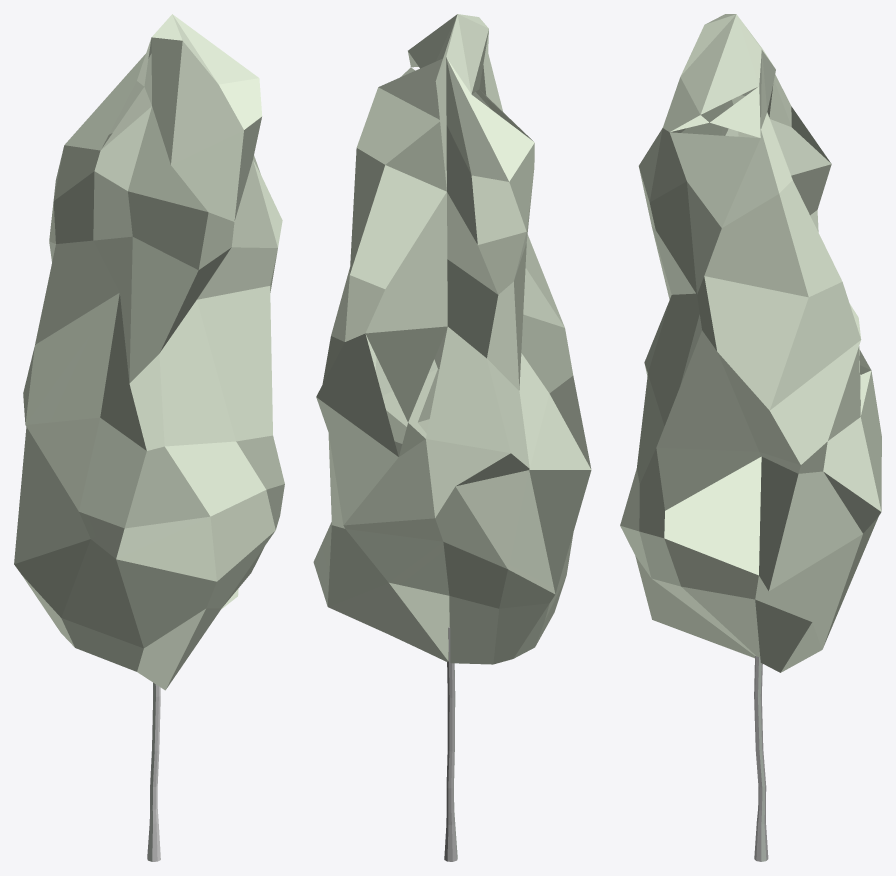
The model's file is tree.glb.
3 views of the same model, side by side, from view 1: azimuth 30°, elevation 25°; view 2: azimuth 150°, elevation 25°; view 3: azimuth 270°, elevation 25° (orthographic). The views are drawn at different scales.
Visible parts, largest first — view 1: JJZ_Var_A6_2_3d_gedreht-2.1092, JJZ_Var_A6_2_3d_gedreht-2.1080; view 2: JJZ_Var_A6_2_3d_gedreht-2.1092, JJZ_Var_A6_2_3d_gedreht-2.1080; view 3: JJZ_Var_A6_2_3d_gedreht-2.1092, JJZ_Var_A6_2_3d_gedreht-2.1080.
Boxes of the visible parts, x1=… form: JJZ_Var_A6_2_3d_gedreht-2.1092: x1=14, y1=14, x2=284, y2=690; JJZ_Var_A6_2_3d_gedreht-2.1080: x1=147, y1=682, x2=160, y2=861; JJZ_Var_A6_2_3d_gedreht-2.1092: x1=313, y1=14, x2=591, y2=664; JJZ_Var_A6_2_3d_gedreht-2.1080: x1=444, y1=627, x2=457, y2=861; JJZ_Var_A6_2_3d_gedreht-2.1092: x1=620, y1=14, x2=881, y2=672; JJZ_Var_A6_2_3d_gedreht-2.1080: x1=754, y1=656, x2=768, y2=861.
Bounding box in the file's own units: 6.17 × 20.81 × 5.83.
